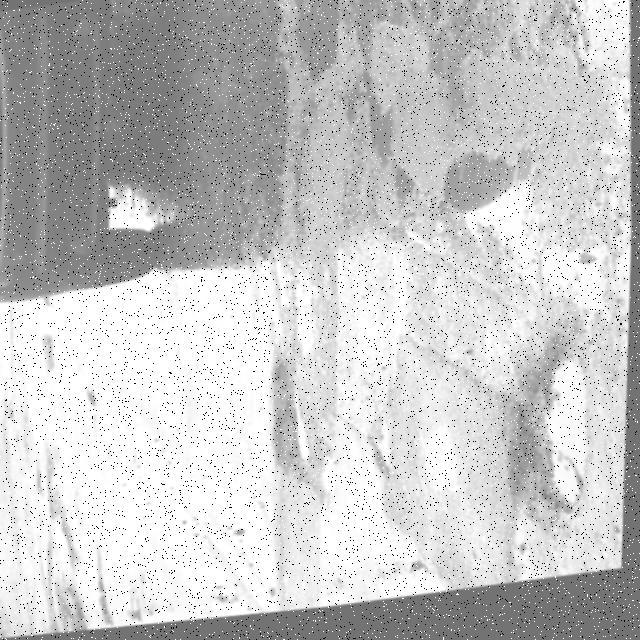pothole: (502, 340, 611, 538), (430, 150, 548, 293), (259, 360, 333, 493), (266, 0, 352, 91), (527, 0, 606, 93)
